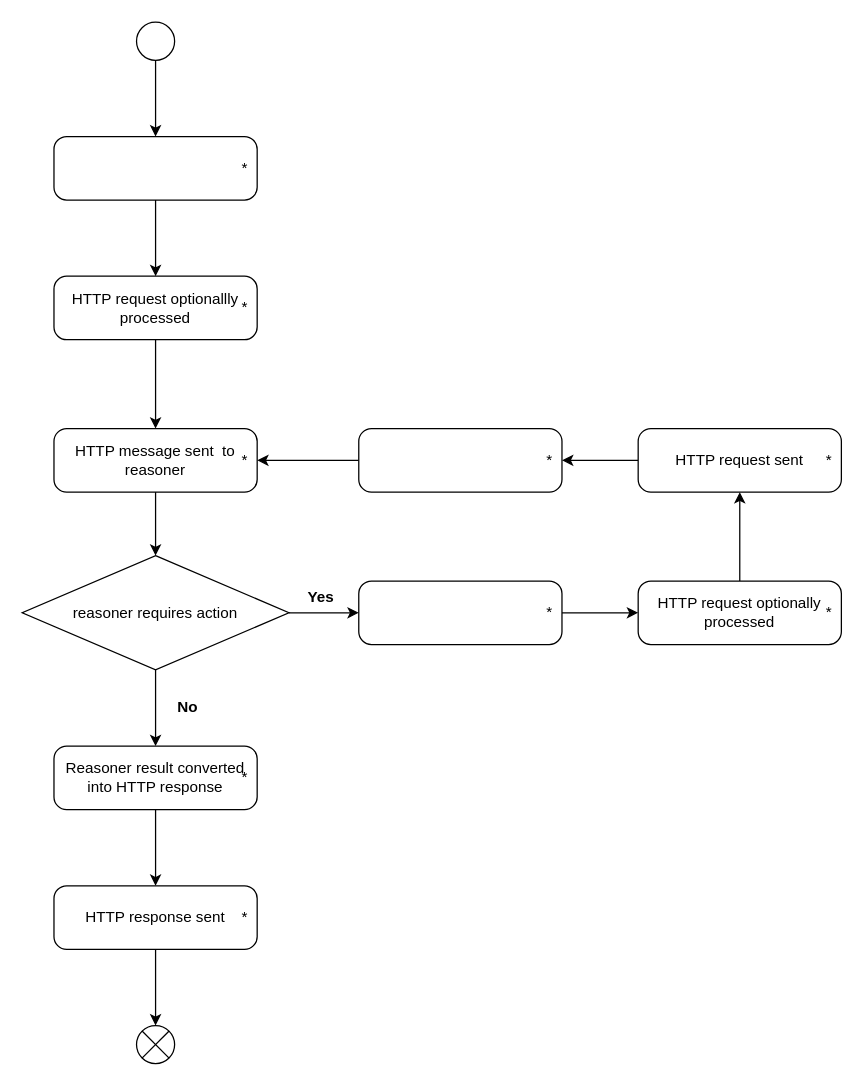
Some shapes in this 864 by 1086 pixel diagram are drawn without their labels. Each missing label, with the centre of its shape:
HTTP request received: the point at 155,167
HTTP response received: the point at 460,459
Reasoner result converted into HTTP request: the point at 460,612
